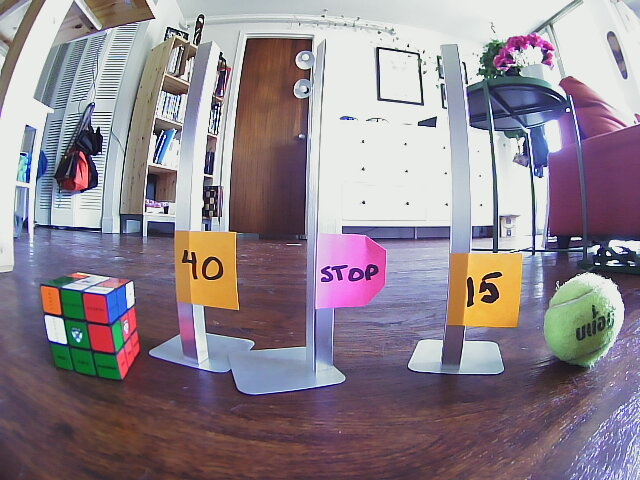15: (446, 256, 519, 327)
40: (175, 233, 237, 304)
ball: (541, 272, 625, 363)
cube: (41, 270, 141, 380)
stop: (318, 233, 385, 308)
